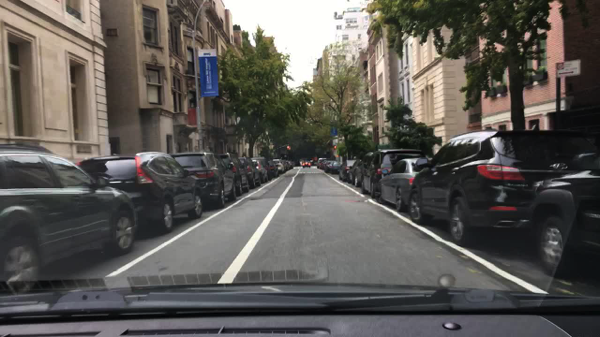car: (409, 130, 599, 248), (0, 142, 139, 298), (71, 151, 204, 236), (525, 151, 598, 279), (168, 152, 238, 208), (359, 149, 427, 199), (376, 156, 433, 211), (218, 151, 249, 200), (352, 152, 374, 188), (237, 157, 261, 189), (250, 157, 274, 183), (345, 159, 363, 185), (337, 159, 359, 180), (251, 160, 268, 184), (325, 161, 343, 175), (268, 159, 278, 177), (272, 159, 283, 175), (316, 156, 327, 169), (279, 160, 286, 173), (301, 160, 311, 168), (322, 160, 330, 170), (283, 160, 289, 172), (319, 159, 325, 170), (285, 160, 291, 169), (288, 162, 294, 169), (311, 161, 318, 166)
traffic light: (287, 145, 290, 151), (333, 145, 336, 150)
traffic sign: (555, 59, 580, 79)
